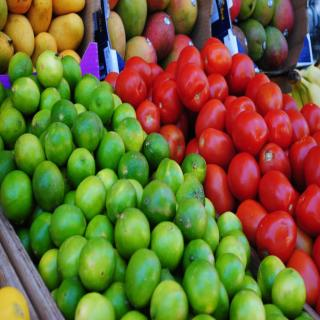tomato: (253, 208, 296, 261), (287, 248, 320, 305), (175, 61, 210, 111), (231, 149, 264, 199), (258, 172, 295, 216), (233, 109, 267, 155), (223, 94, 260, 136), (203, 164, 233, 212), (234, 196, 267, 239), (294, 181, 320, 234), (285, 134, 317, 176), (198, 127, 234, 164), (115, 67, 147, 108), (259, 139, 292, 178), (194, 98, 226, 137), (264, 109, 293, 148), (227, 54, 254, 93), (158, 124, 185, 162), (124, 56, 152, 92), (154, 78, 178, 118), (204, 42, 232, 75), (175, 45, 202, 79), (286, 106, 310, 142), (134, 100, 160, 132), (255, 81, 282, 108), (300, 102, 319, 134), (244, 74, 269, 98), (207, 73, 229, 100), (306, 144, 320, 186), (201, 34, 222, 54), (148, 62, 164, 86), (281, 92, 299, 112), (312, 235, 320, 268), (185, 139, 200, 156), (102, 73, 118, 87), (164, 58, 175, 74)
